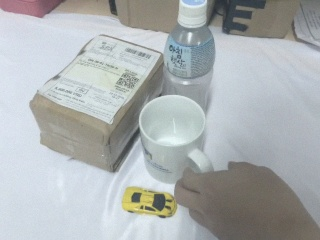bottle: (159, 2, 217, 116)
box: (29, 33, 166, 173), (221, 1, 302, 39), (110, 1, 182, 34)
cup: (138, 94, 216, 185)
toy_car: (122, 186, 177, 219)
